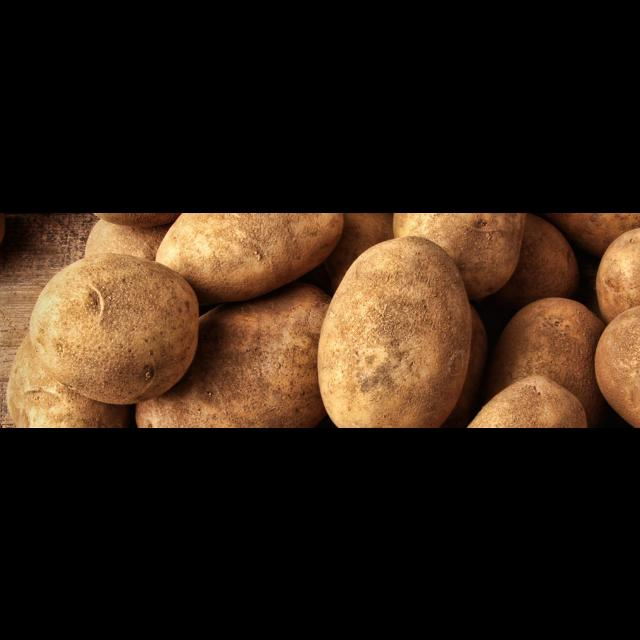Diseased-fungal potato: (310, 226, 480, 428), (28, 248, 205, 408), (493, 292, 621, 428)
